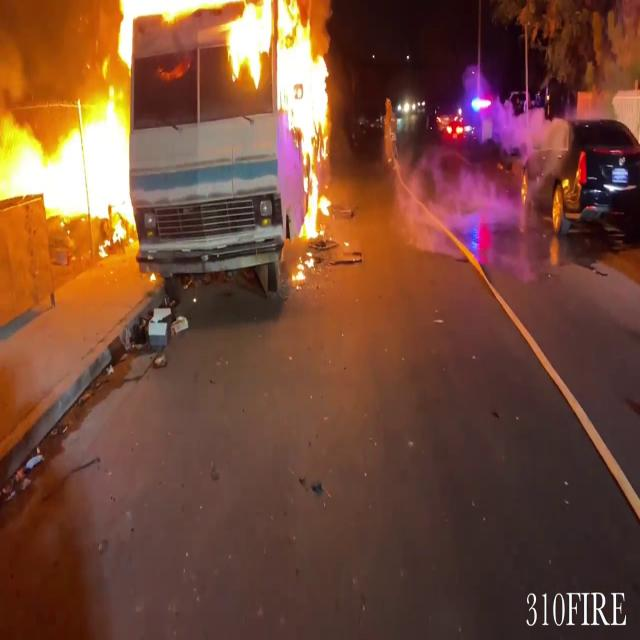Fire: (222, 0, 340, 238), (0, 75, 145, 252), (111, 0, 189, 52)
